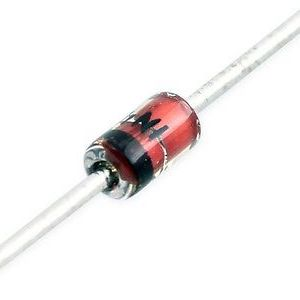Diode: (82, 90, 202, 201)
